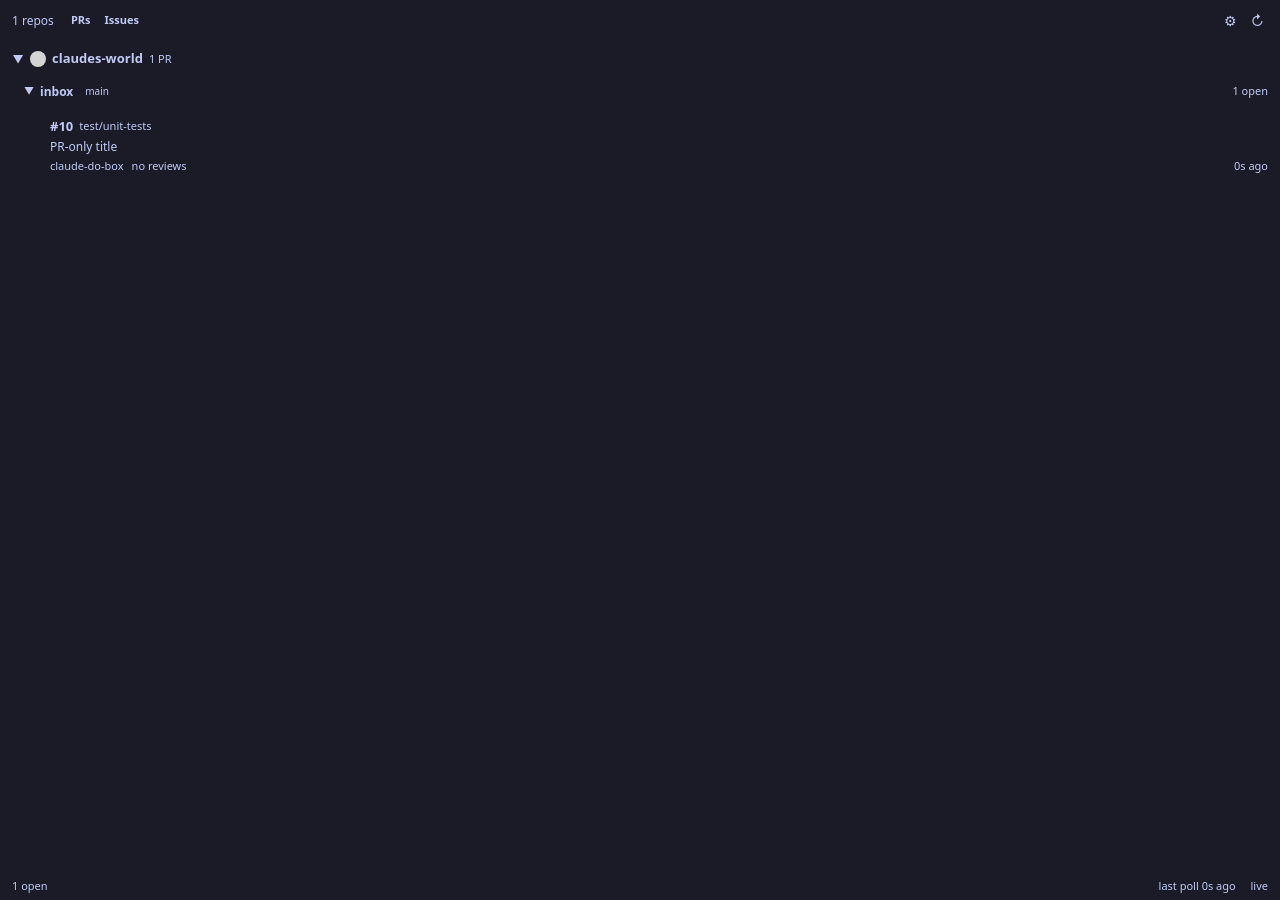
PrTicker › switches between PRs and Issues and force-refreshes visible repo issues
Expected: the text "PR-only title" is shown, [50,138,117,155]
Click the button "Issues": coordinates (122, 21) [98,9,146,32]
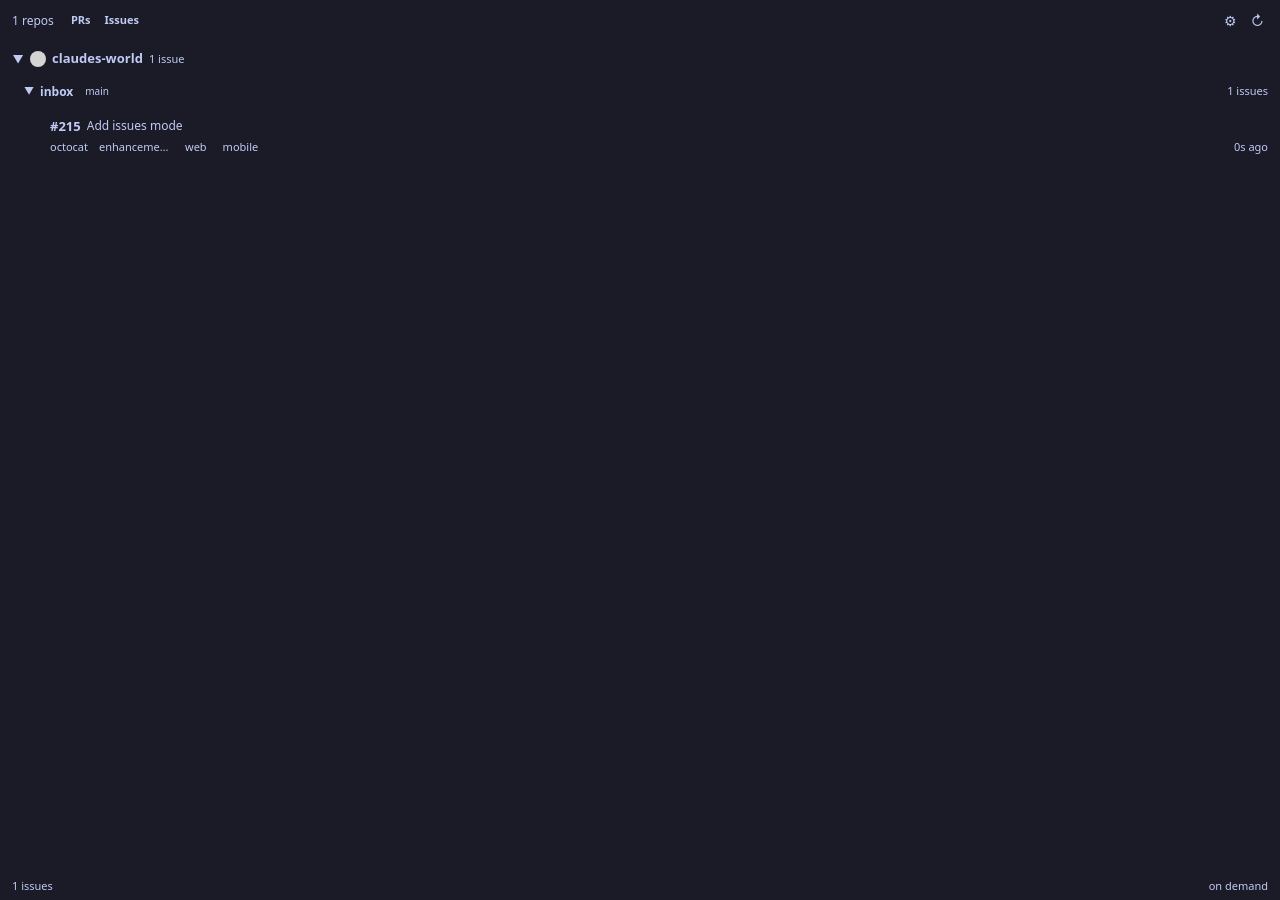
Expected: the text "Add issues mode" is shown, [87,117,182,135]
Expected: the text "PR-only title" is gone
Expected: the text "enhancement" is shown, [94,138,174,156]
Click the button named "Refresh issues": coordinates (1257, 20) [1247,8,1268,33]
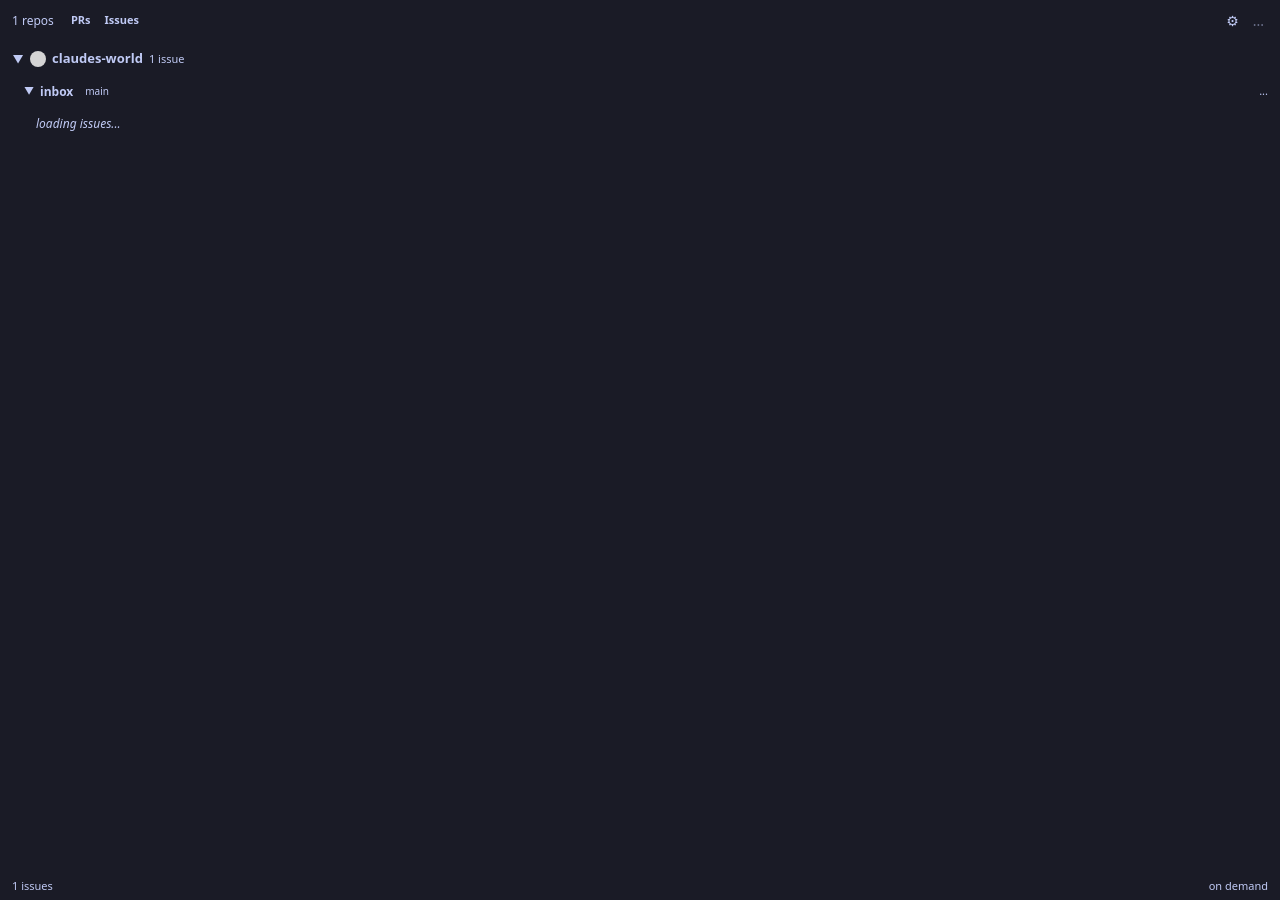
Click the button "PRs": coordinates (81, 21) [64,9,98,32]
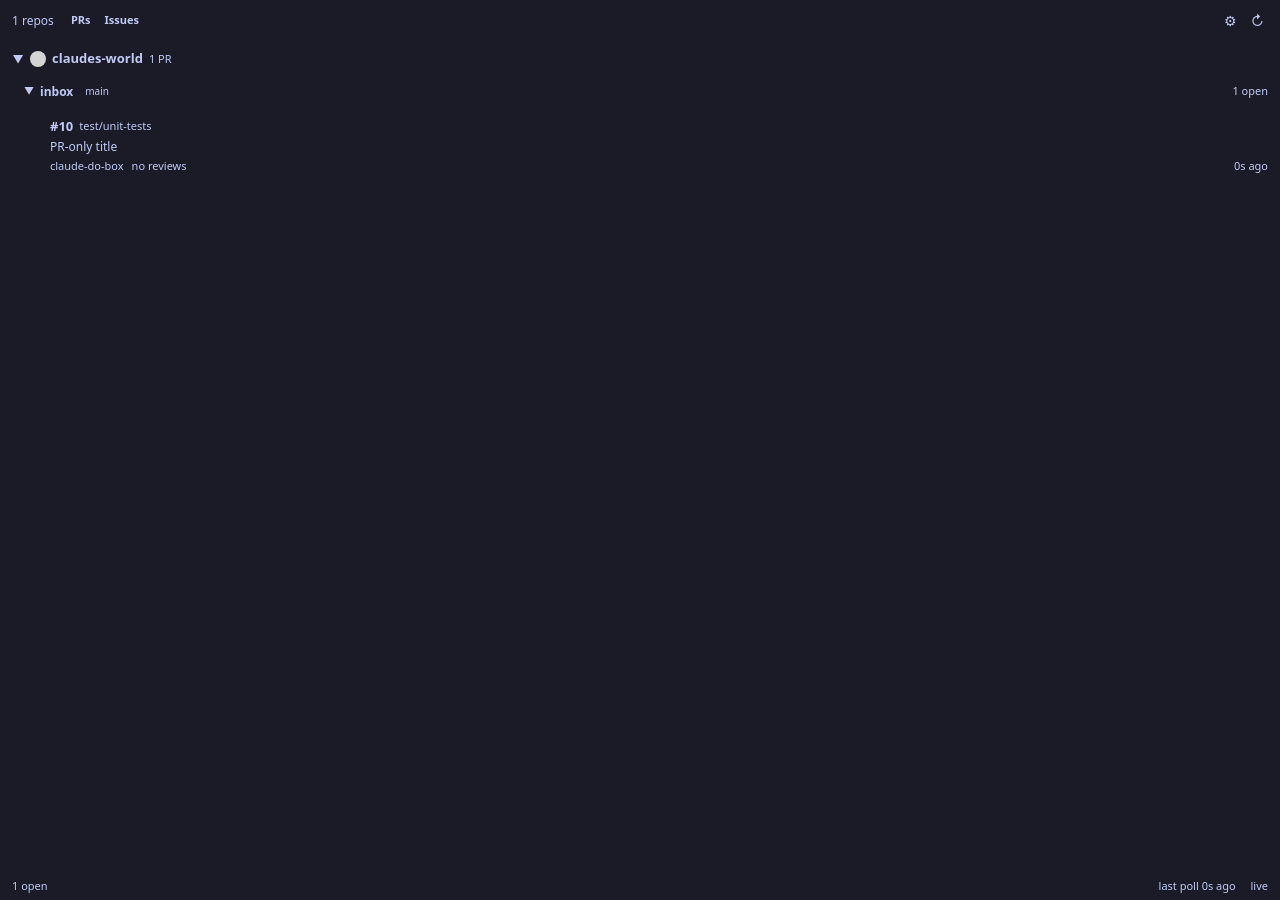
Expected: the text "PR-only title" is shown, [50,138,117,155]
